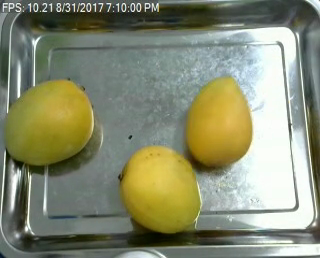Mango: (5, 80, 93, 164), (122, 145, 202, 233), (185, 75, 252, 164)
